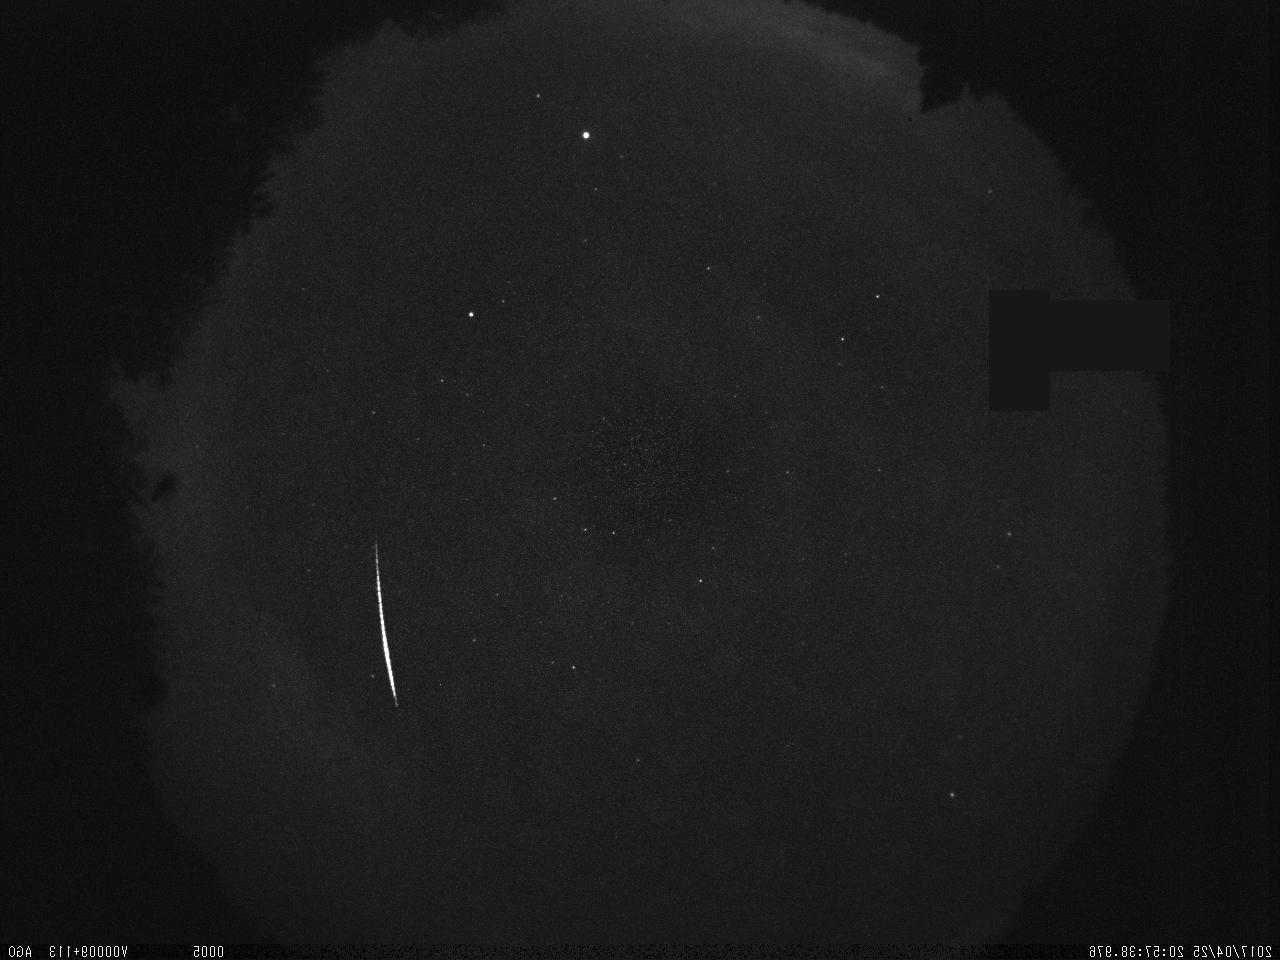meteor: (358, 524, 399, 751)
